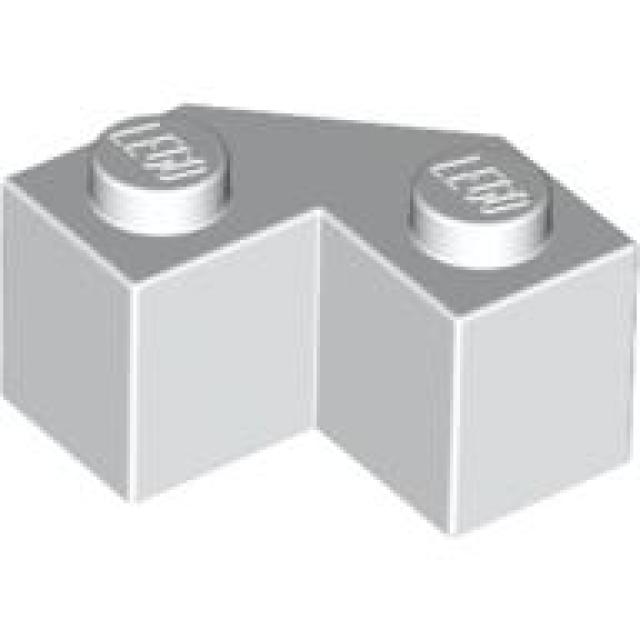White_Medium: (3, 103, 637, 540)
